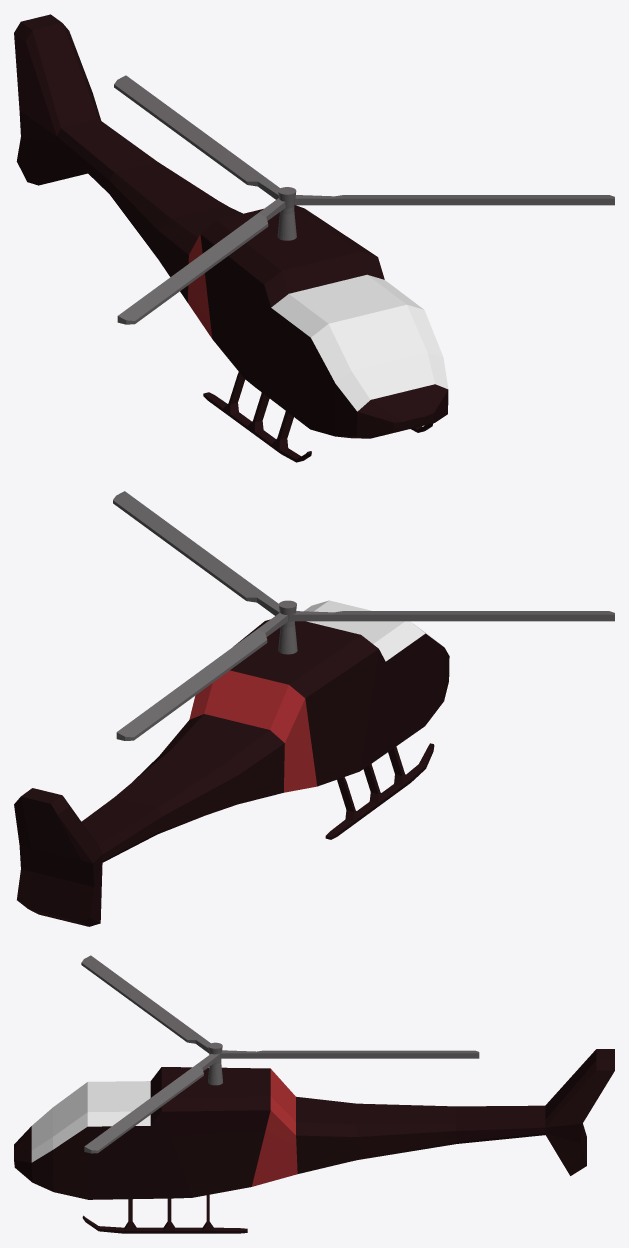
Rendered from helikopter.glb.
The picture shows the model from 3 angles, top to bottom: view 1: azimuth 30°, elevation 25°; view 2: azimuth 150°, elevation 25°; view 3: azimuth 270°, elevation 25°; orthographic projection. The views are drawn at different scales.
Visible parts, largest first — view 1: Cube; view 2: Cube; view 3: Cube.
Part boxes in pixels (x1,y1,x2,y2): Cube: (14,14,614,462); Cube: (14,491,614,926); Cube: (14,955,614,1233).
Size of the model in its own units: 3.52 by 1.38 by 4.63.
